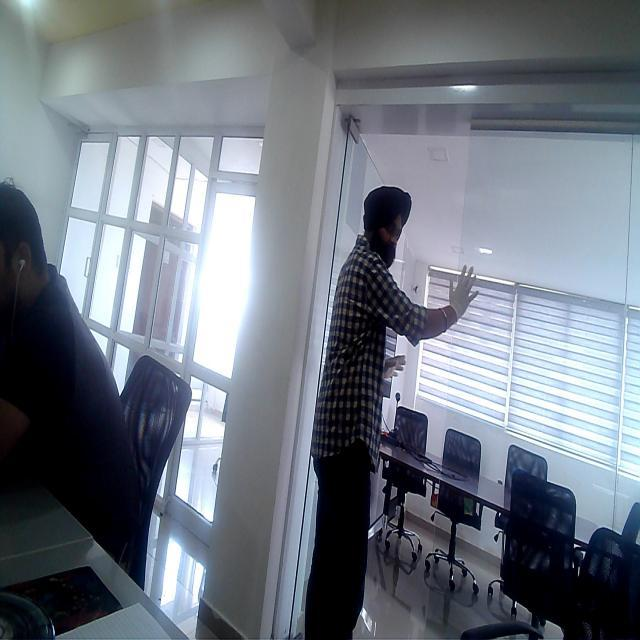with_gloves: (442, 264, 482, 330)
